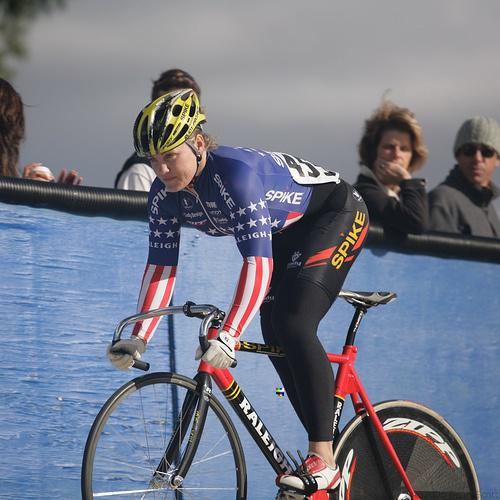car: (78, 284, 483, 500)
person: (107, 88, 374, 495), (353, 101, 437, 233), (422, 114, 500, 241)
